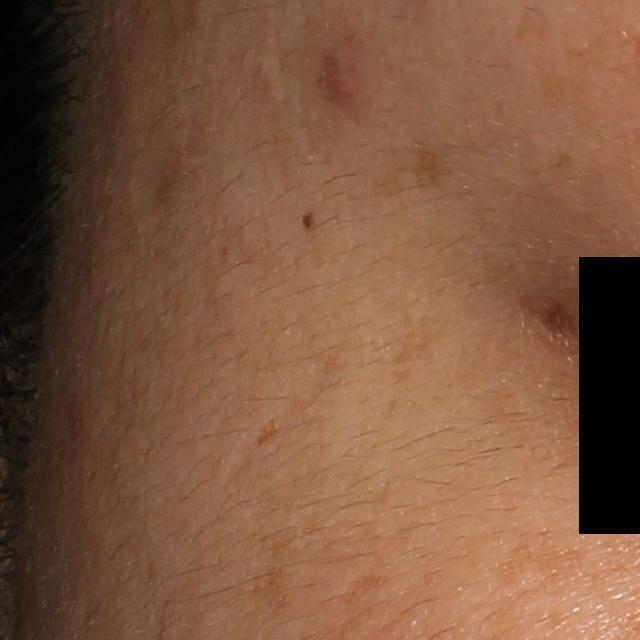melasma: (238, 518, 312, 617), (494, 532, 595, 601), (370, 145, 457, 209), (336, 569, 393, 611), (255, 419, 282, 447)
nevus: (299, 210, 317, 233)
papule: (323, 47, 360, 104)
